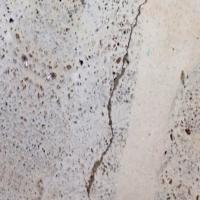crack: (55, 0, 160, 199)
